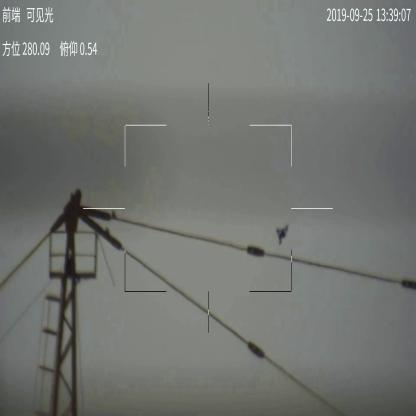uav: (274, 222, 290, 245)
